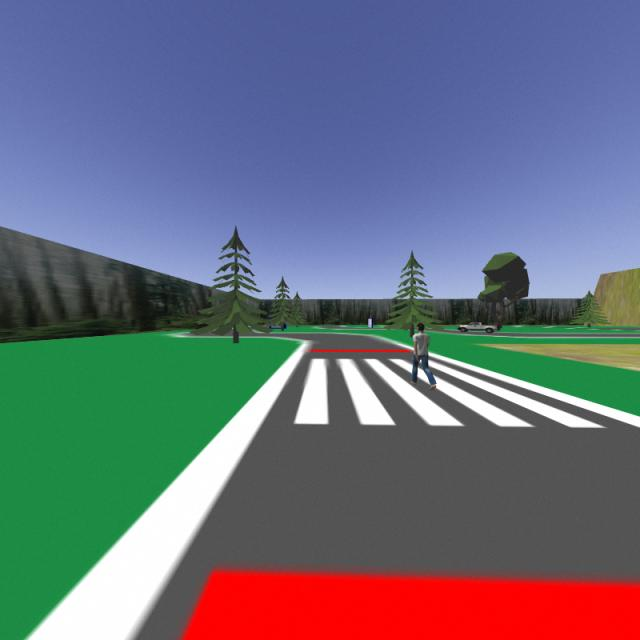pedestrian: (410, 320, 438, 396)
